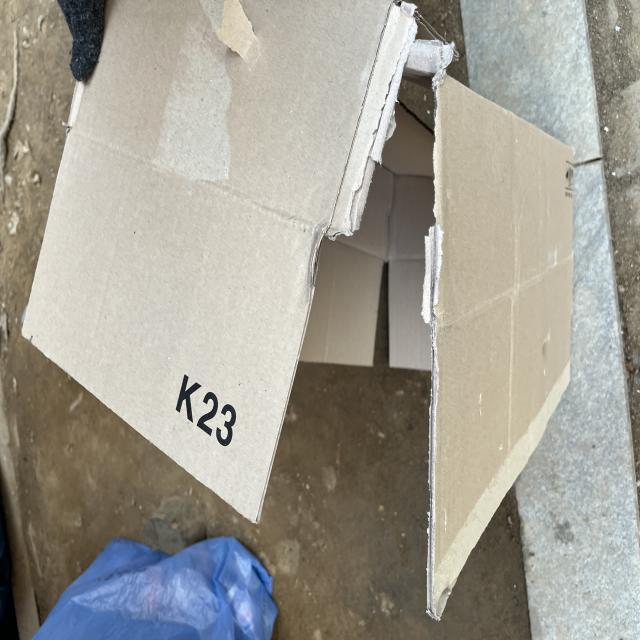damaged: (353, 4, 448, 237)
